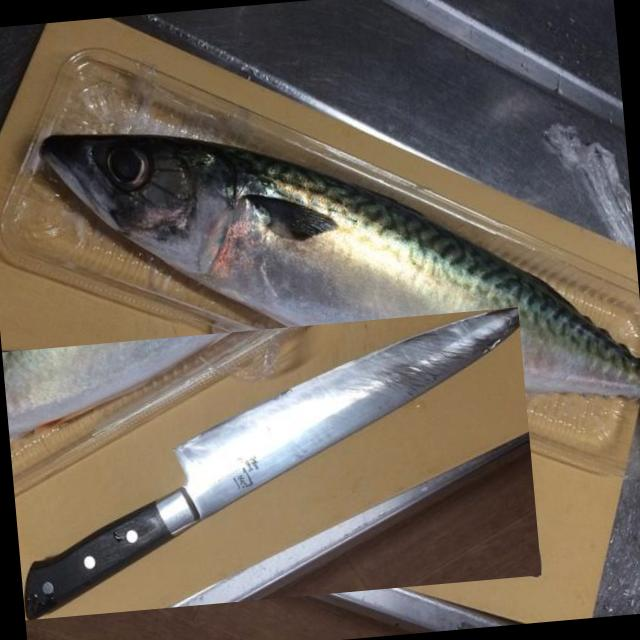Knife: (24, 307, 519, 619)
